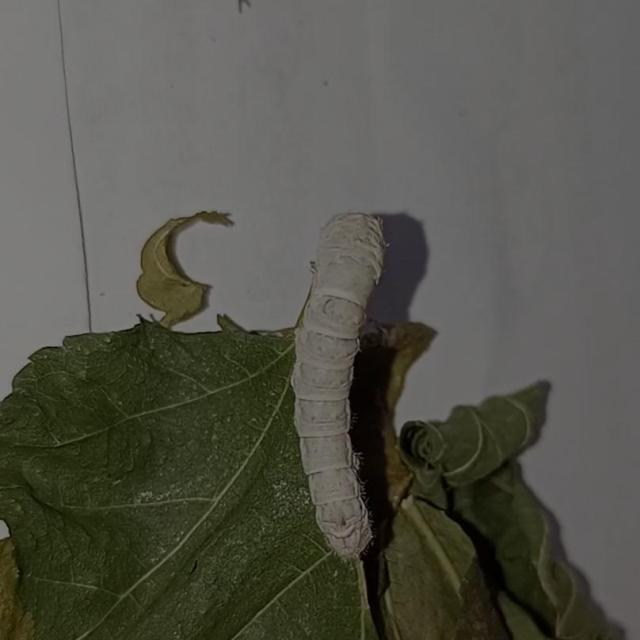Healthy: (241, 185, 464, 590)
